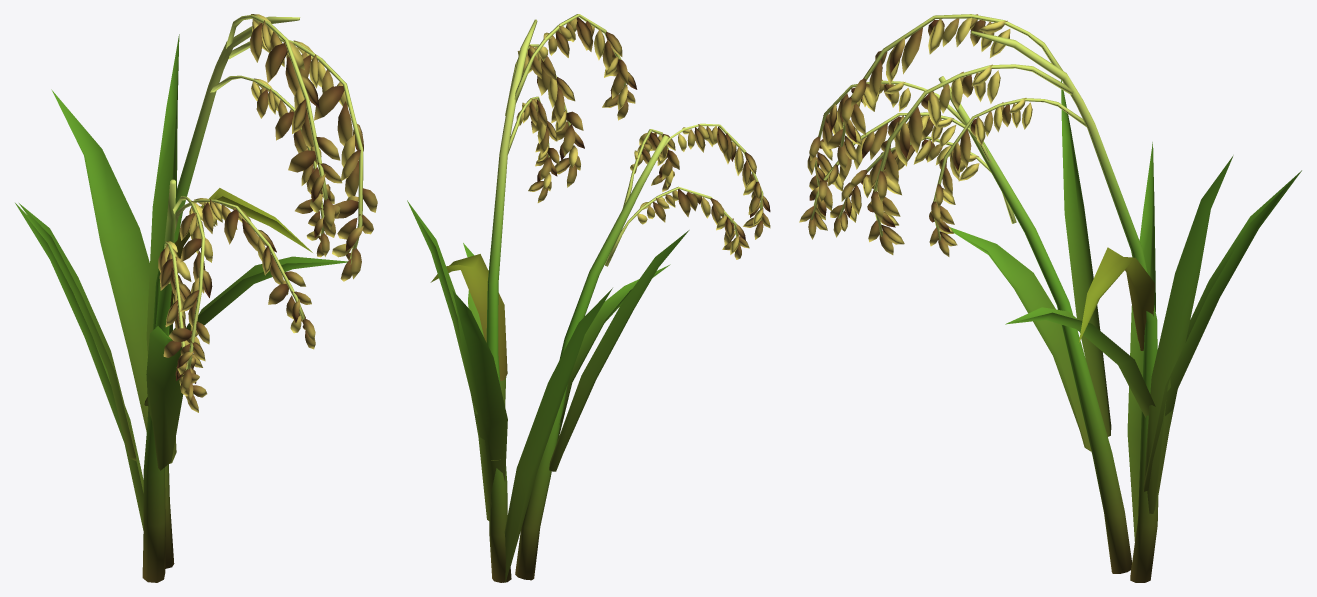
File: SM_RiceCrop_02.fbx
The picture shows the model from 3 angles, left to right: view 1: azimuth 30°, elevation 25°; view 2: azimuth 150°, elevation 25°; view 3: azimuth 270°, elevation 25°; orthographic projection. The views are drawn at different scales.
Parts seen in each view (by area): view 1: SM_RiceCrop_02; view 2: SM_RiceCrop_02; view 3: SM_RiceCrop_02.
Boxes of the visible parts, left/top/right/bottom form: SM_RiceCrop_02: left=15, top=14, right=377, bottom=582; SM_RiceCrop_02: left=407, top=14, right=770, bottom=582; SM_RiceCrop_02: left=799, top=14, right=1301, bottom=582.
Size of the model in its own units: 1.99 by 3.78 by 3.
